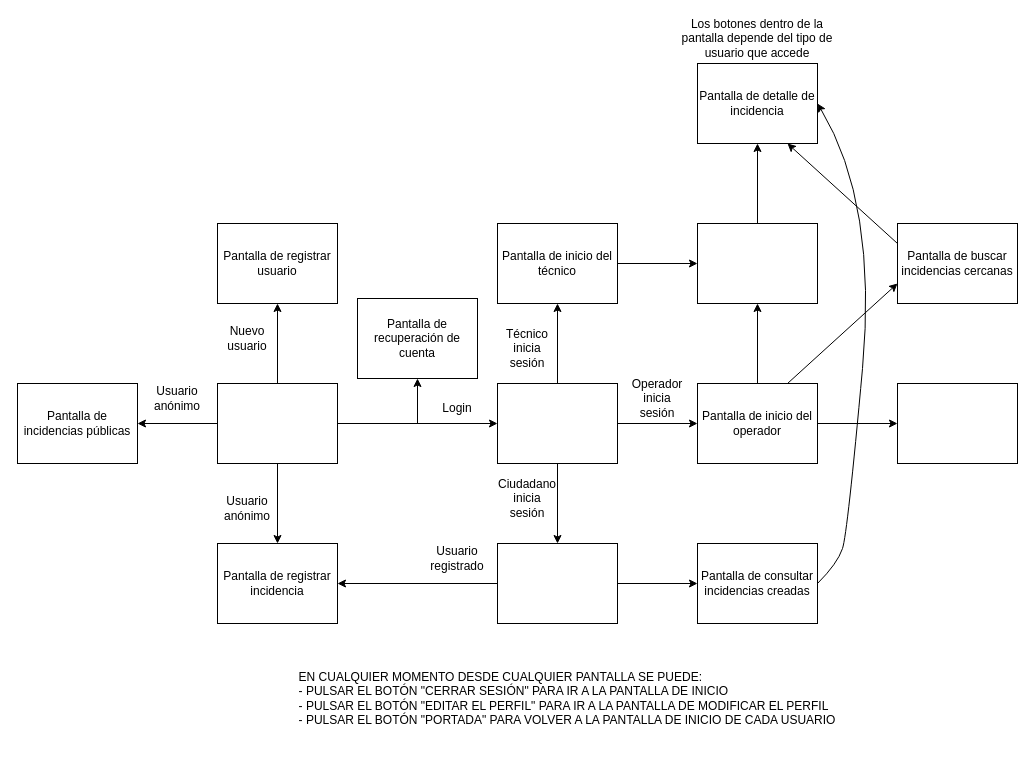
The diagram is 1035 pixels wide and 771 high, and some of its shapes have lost their labels. The shapes that lost their labels are listed below. From the top down, each one's centre as x and y in pixels, then its label:
At (x=757, y=263): "Pantalla de consultar incidencia".
At (x=277, y=423): "Pantalla de inicio".
At (x=557, y=423): "Pantalla de inicio de sesión".
At (x=957, y=423): "Pantalla de generar informe".
At (x=557, y=583): "Pantalla de inicio del ciudadano".
